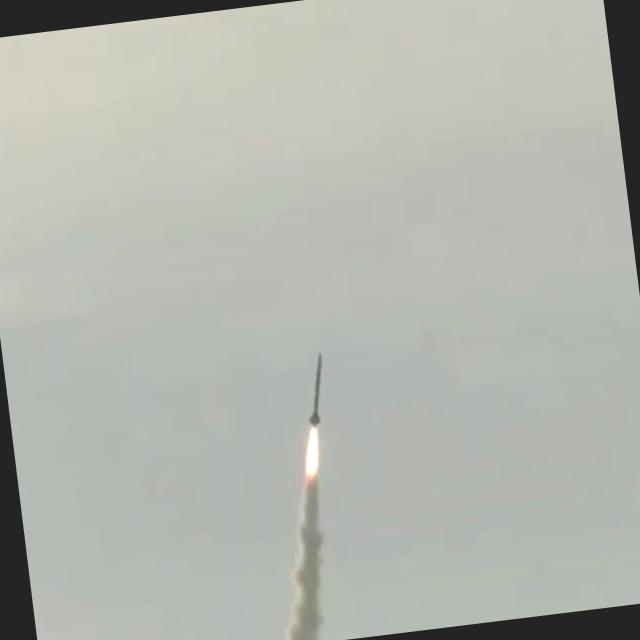rocket: (308, 353, 320, 426)
smoke_trail_with_rocket: (287, 353, 323, 640)
